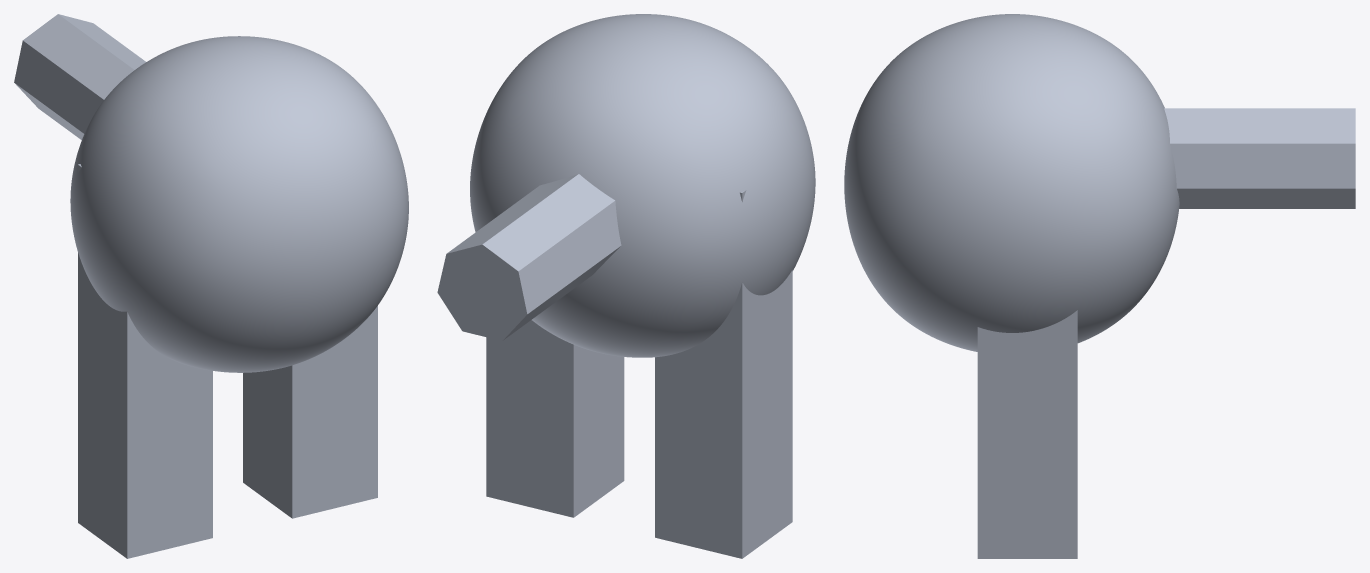
File: cannon.fbx
3 views of the same model, side by side, from view 1: azimuth 30°, elevation 25°; view 2: azimuth 150°, elevation 25°; view 3: azimuth 270°, elevation 25° (orthographic). The views are drawn at different scales.
Parts seen in each view (by area): view 1: cannon; view 2: cannon; view 3: cannon.
Part boxes in pixels (x1,y1,x2,y2): cannon: (14, 14, 408, 558); cannon: (437, 14, 815, 558); cannon: (844, 14, 1355, 558).
Size of the model in its own units: 168 by 257 by 255.
